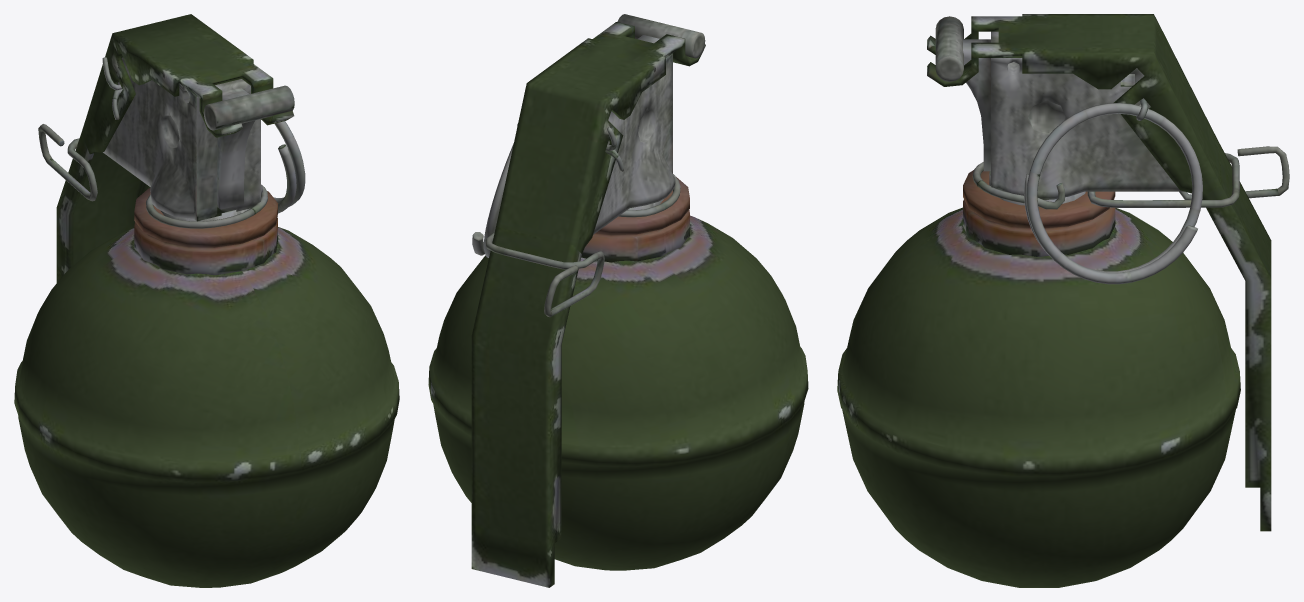
File: weapon_grenade_frag.glb
3 renders of one model, left to right at view 1: azimuth 30°, elevation 25°; view 2: azimuth 150°, elevation 25°; view 3: azimuth 270°, elevation 25°, orthographic. The views are drawn at different scales.
Parts seen in each view (by area): view 1: SM_M69_Frag_LOD0; view 2: SM_M69_Frag_LOD0; view 3: SM_M69_Frag_LOD0.
Part boxes in pixels (<box>): SM_M69_Frag_LOD0: <box>14,14,399,587</box>; SM_M69_Frag_LOD0: <box>428,14,808,587</box>; SM_M69_Frag_LOD0: <box>837,14,1289,587</box>.
Size of the model in its own units: 0.0787 by 0.115 by 0.0883.
1 material, 1 textured.
